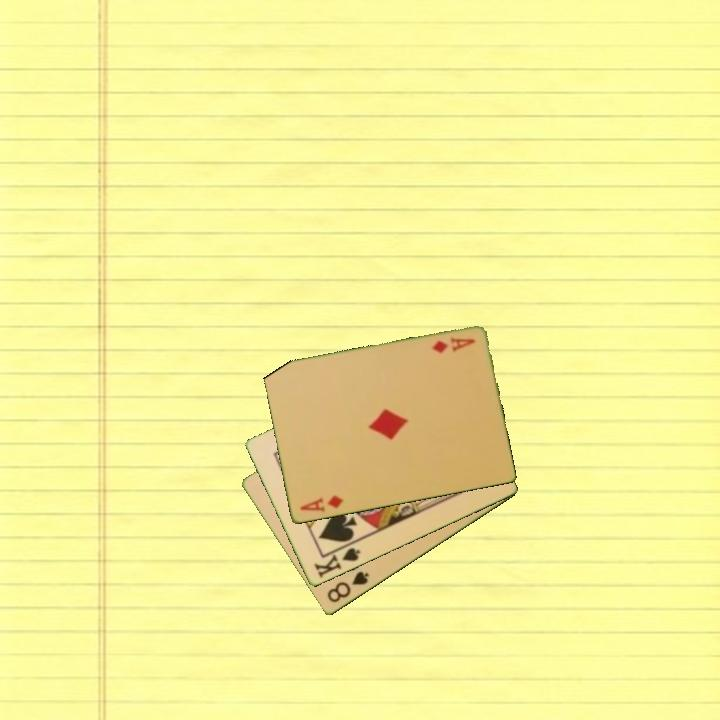8s: (323, 568, 372, 606)
Ad: (296, 492, 346, 515), (428, 334, 478, 357)
Ks: (311, 539, 363, 582)
